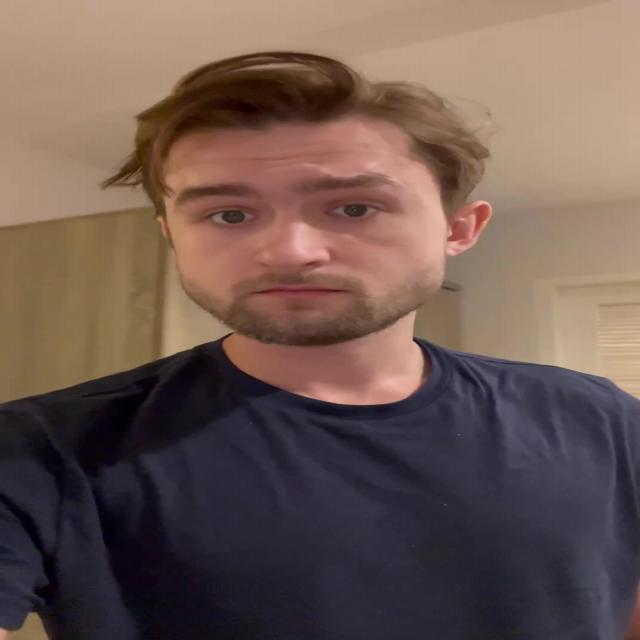earlobe: (444, 240, 466, 258)
eye: (327, 204, 384, 219), (205, 210, 262, 224)
nose: (262, 264, 329, 286)
wholeear: (444, 200, 491, 257), (156, 214, 178, 264)
